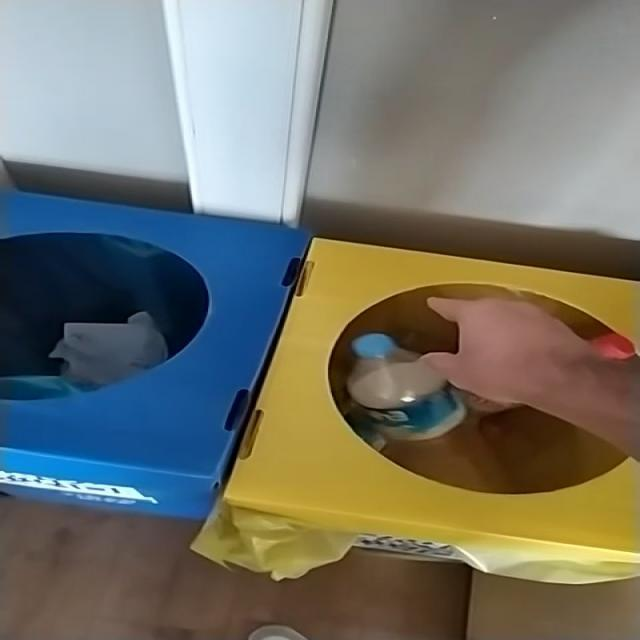Plastic: (345, 333, 479, 483)
